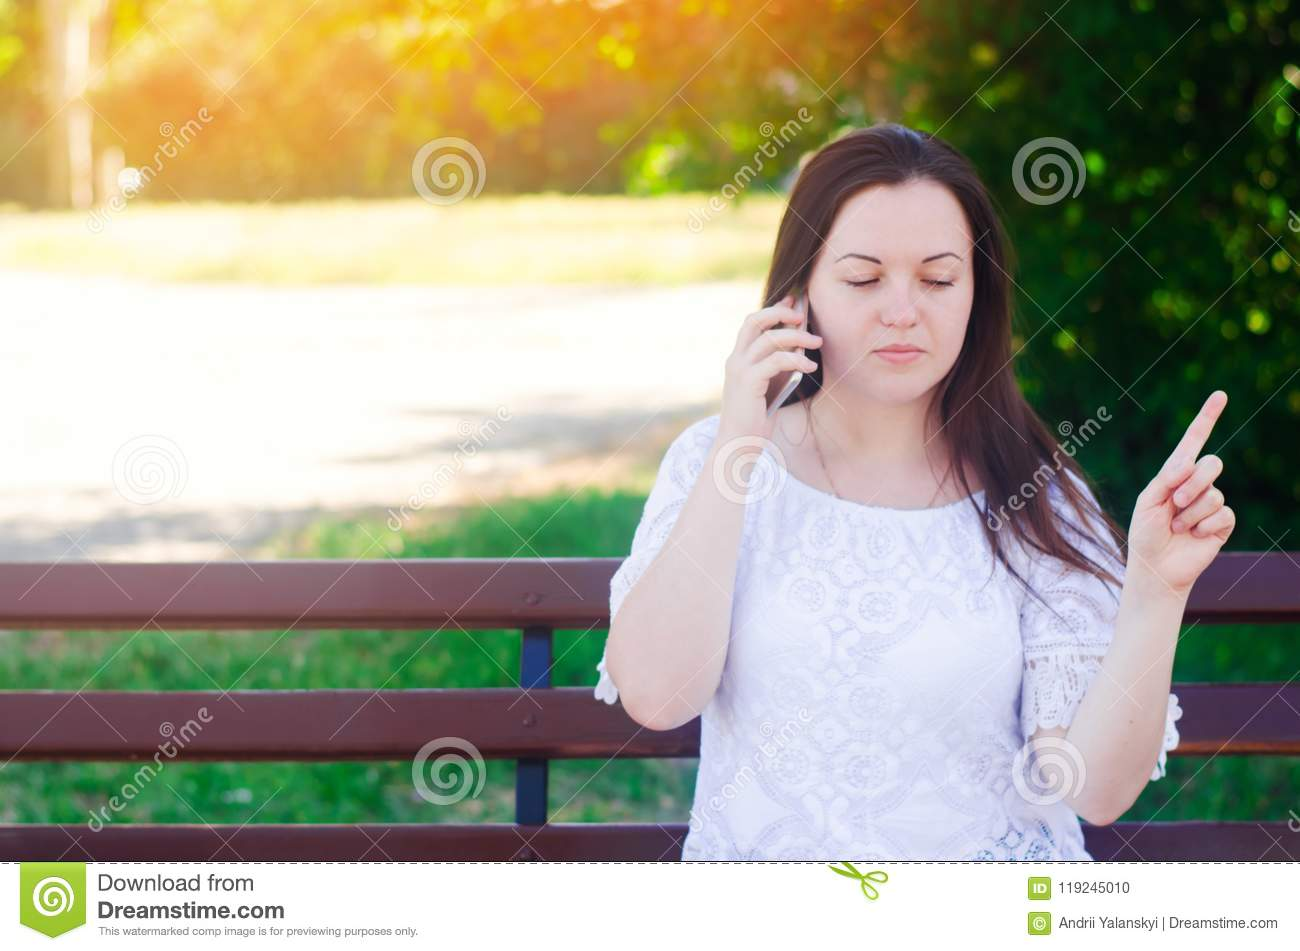phone: (754, 277, 824, 430)
talk: (713, 242, 969, 476)
